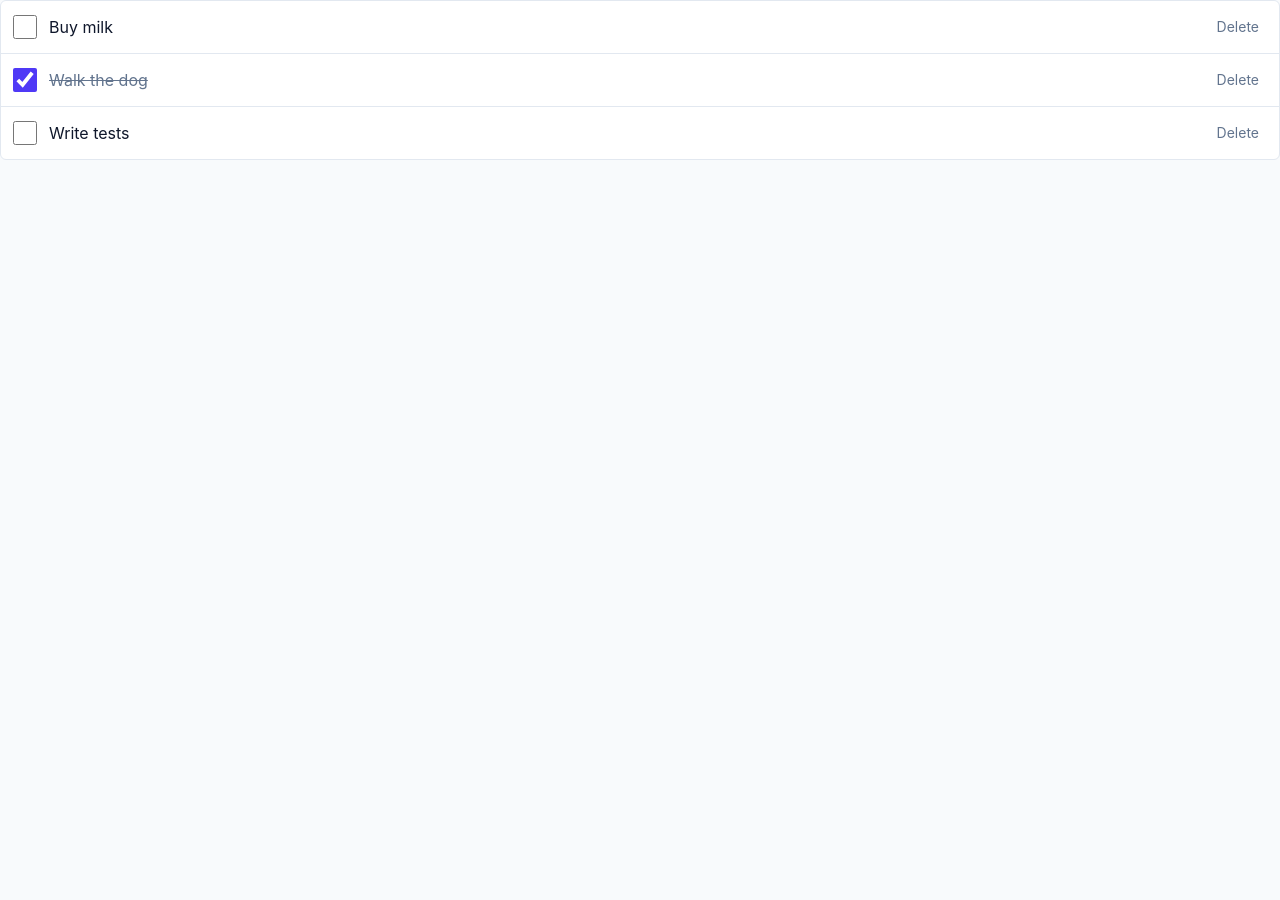
Scenario: TaskList › confirm-delete dialog › cancels with the Cancel button: nothing is deleted and focus returns to that Delete button
The width and height of the screenshot is (1280, 900).
Click the button "Delete" in the row of "Walk the dog" at [1238, 80], box [1209,66,1267,94]
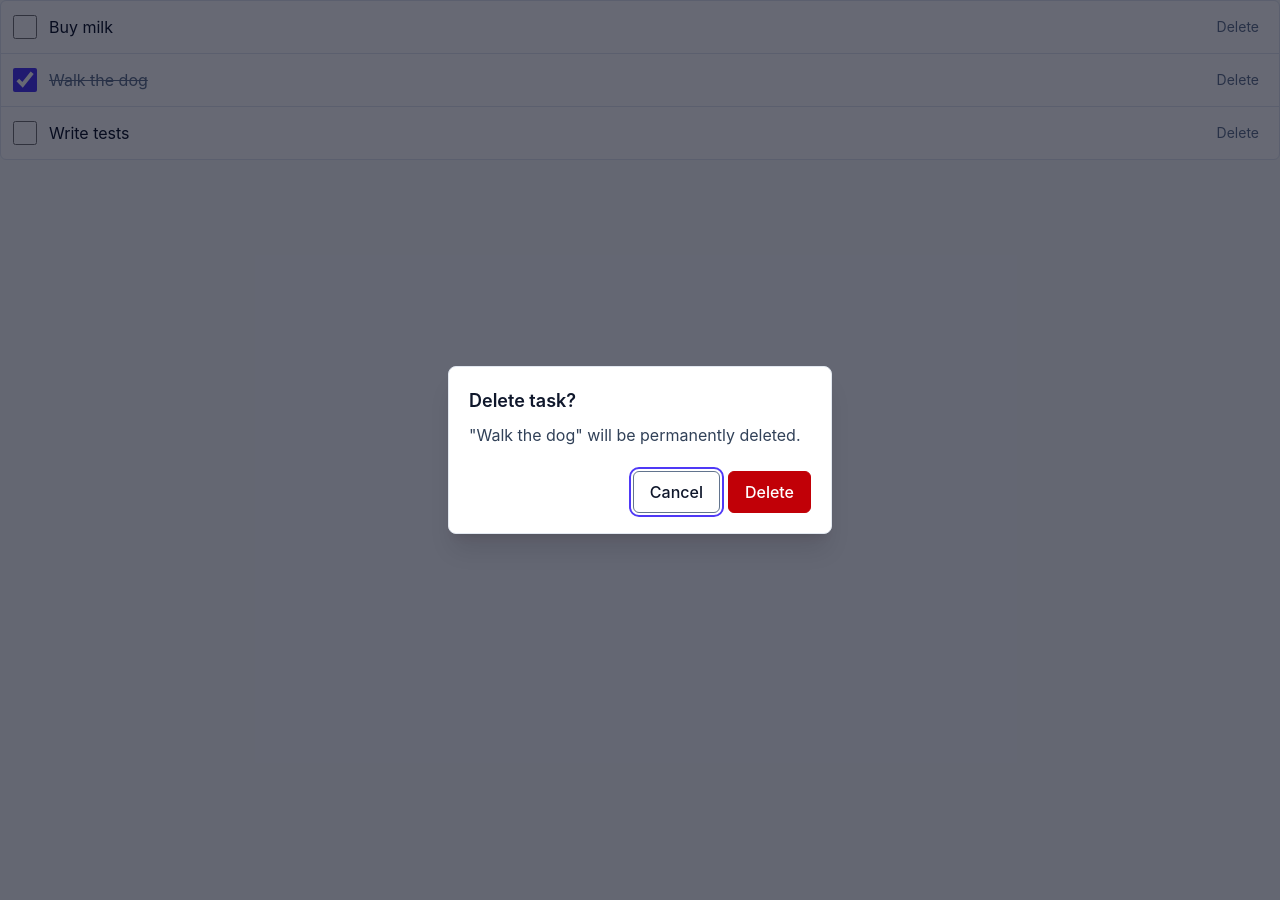
Check: the dialog is shown, box [448,366,832,534]
Click the button "Cancel" at [676, 492], box [633,471,720,513]
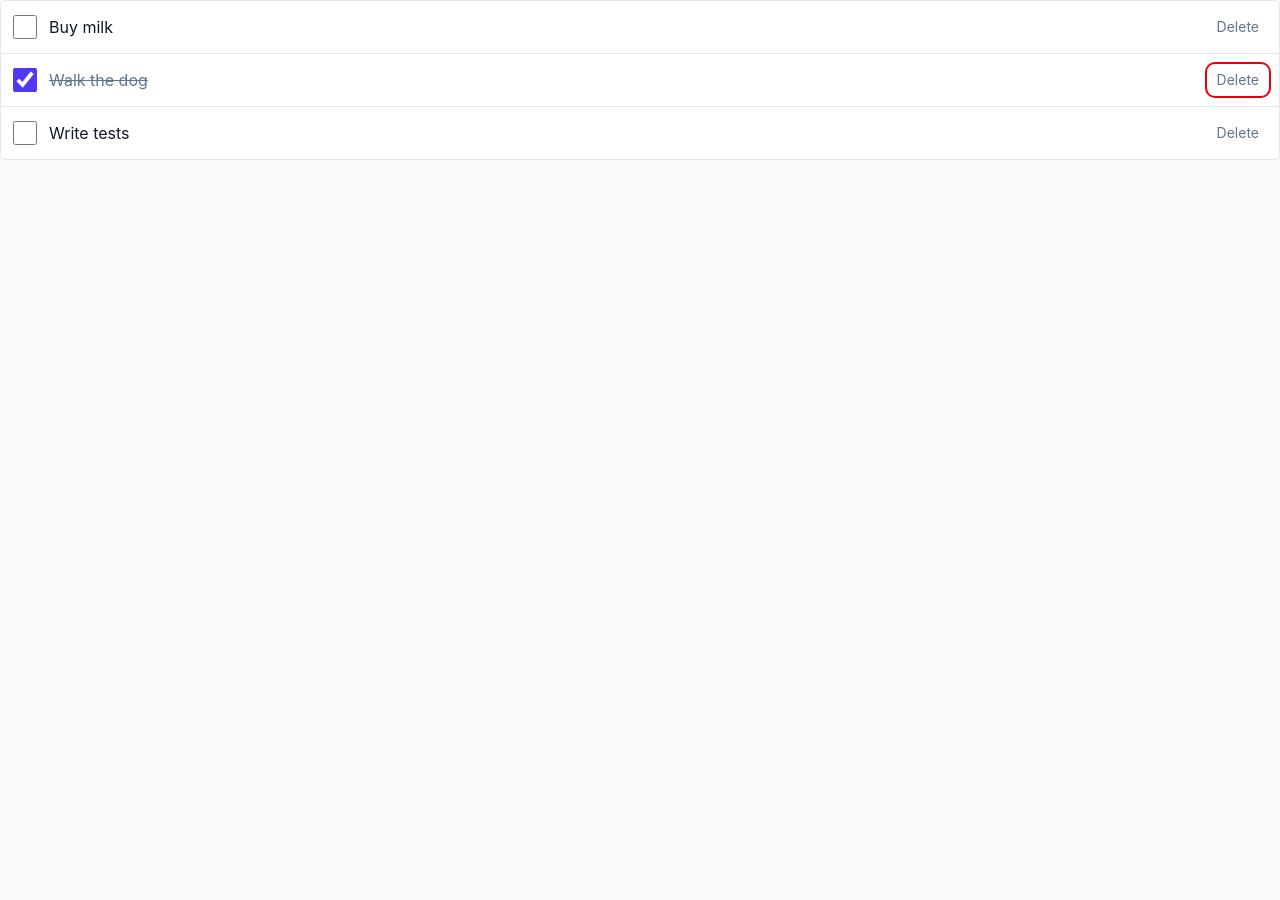
Check: the number of checkboxes is 3, box [13,15,37,39]; [13,68,37,92]; [13,121,37,145]
Check: the dialog is gone
